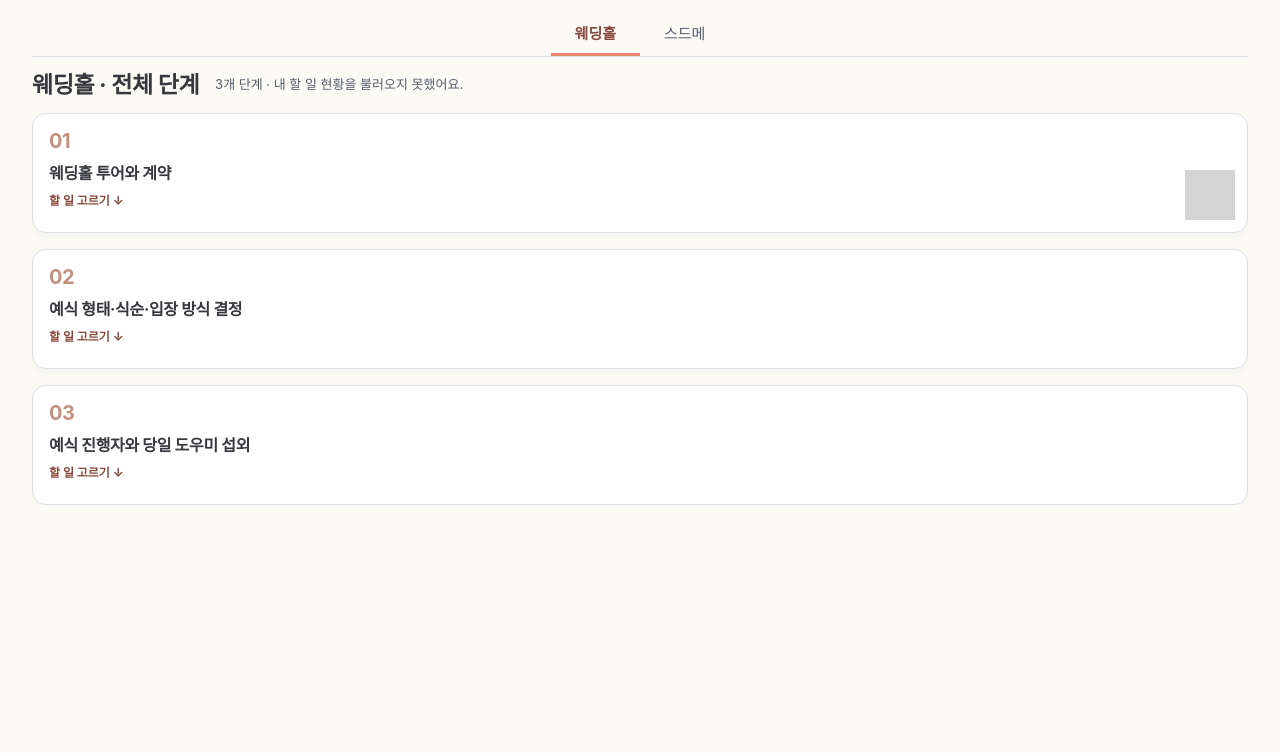
Test: AllPreparationStepsFeature 서버 상태 › 로그인 사용자는 내 체크리스트의 원본 준비 항목 ID로 included를 계산한다
Expected: the heading "웨딩홀 · 전체 단계" is shown, [32,69,199,101]
Click the button "01 웨딩홀 투어와 계약 할 일 고르기 ↓" at (110, 173), box [32,113,1248,233]
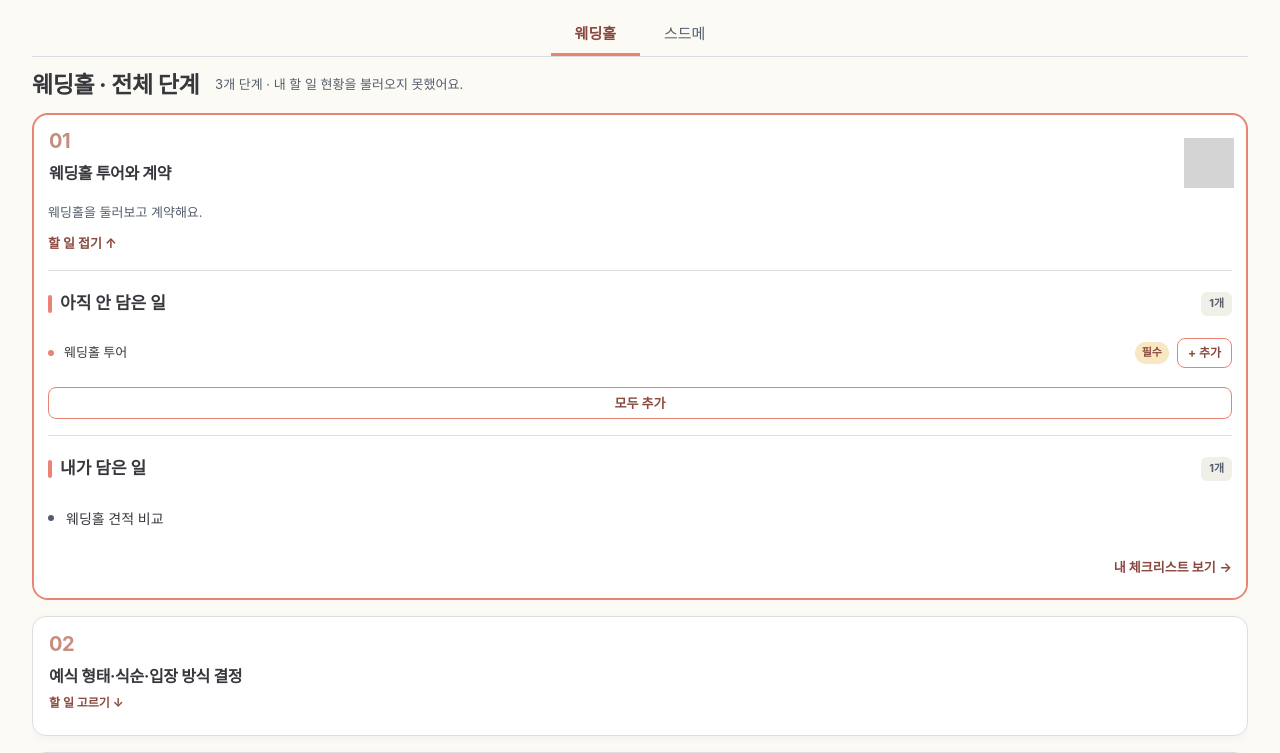
Expected: the text "웨딩홀 견적 비교" is shown, [66,510,164,527]
Expected: the button with aria-label "웨딩홀 투어 추가" is shown, [1177,338,1232,368]
